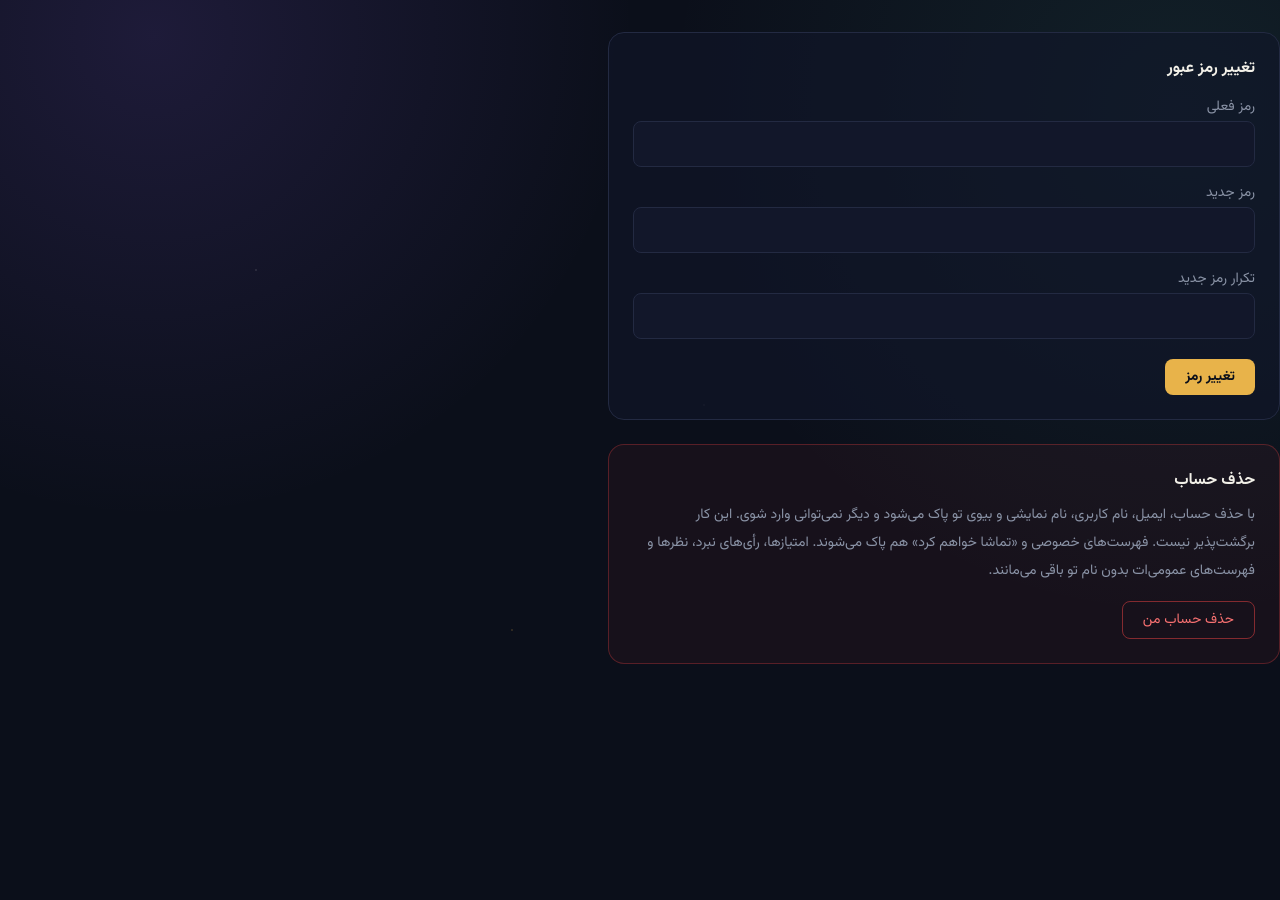
Test: delete account form › keeps the session when the password is rejected
Click the button "حذف حساب من" at [1188, 620], box [1122, 601, 1255, 639]
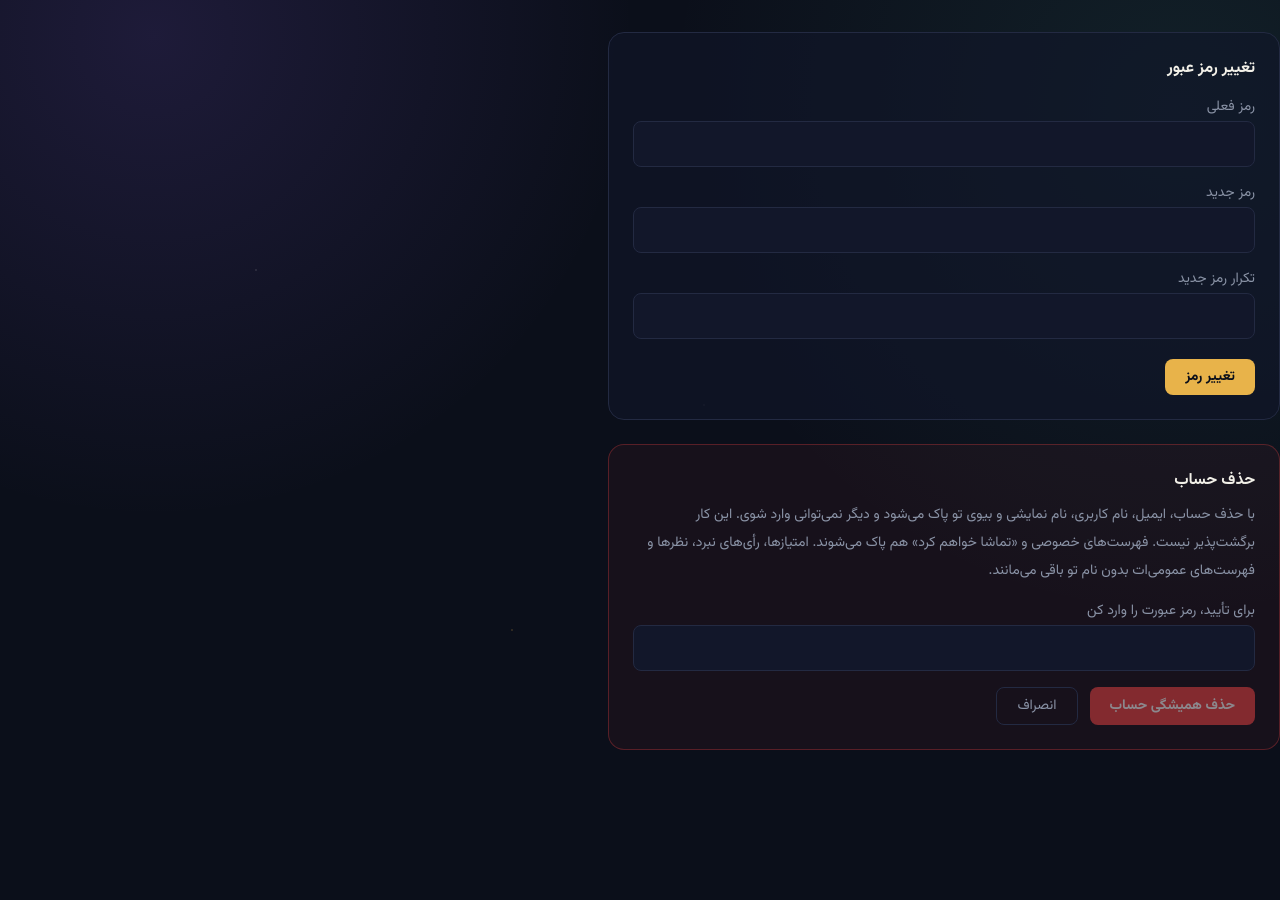
Type "nope" into the password field labelled "برای تأیید، رمز عبورت را وارد کن" at [944, 648], box [633, 625, 1255, 671]
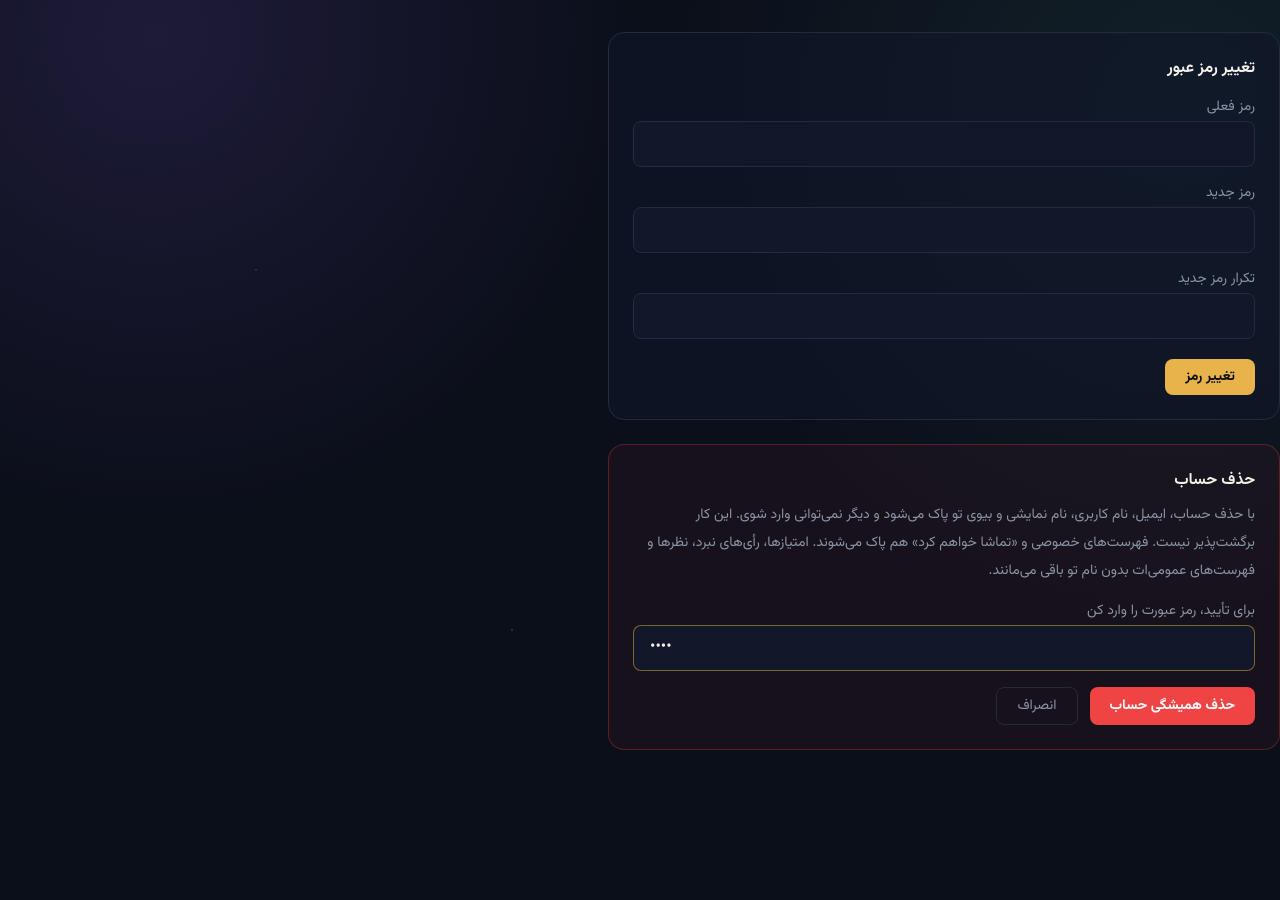
Click the button "حذف همیشگی حساب" at [1172, 706], box [1090, 687, 1255, 725]
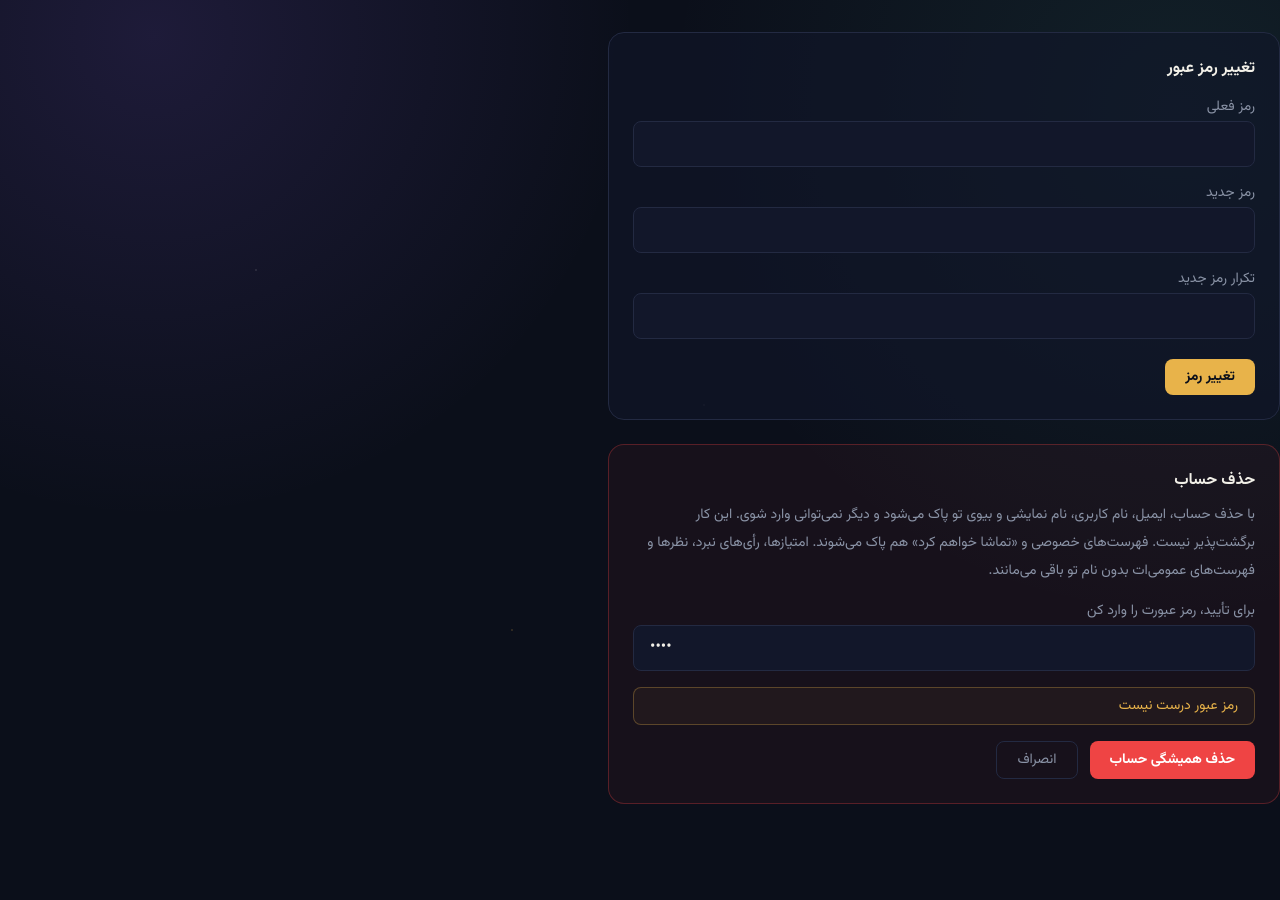
Expected: the message reads "رمز عبور درست نیست", [1119, 695, 1238, 717]
